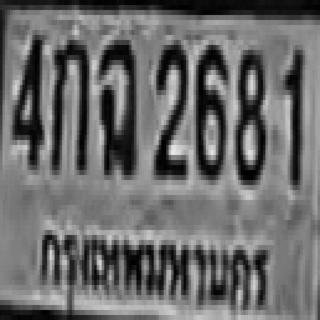A01: (50, 35, 87, 170)
A09: (97, 35, 134, 170)
N01: (282, 45, 301, 180)
N02: (153, 40, 185, 175)
N04: (10, 30, 42, 165)
N06: (193, 40, 226, 175)
N08: (233, 45, 263, 180)
P04: (31, 215, 273, 320)
